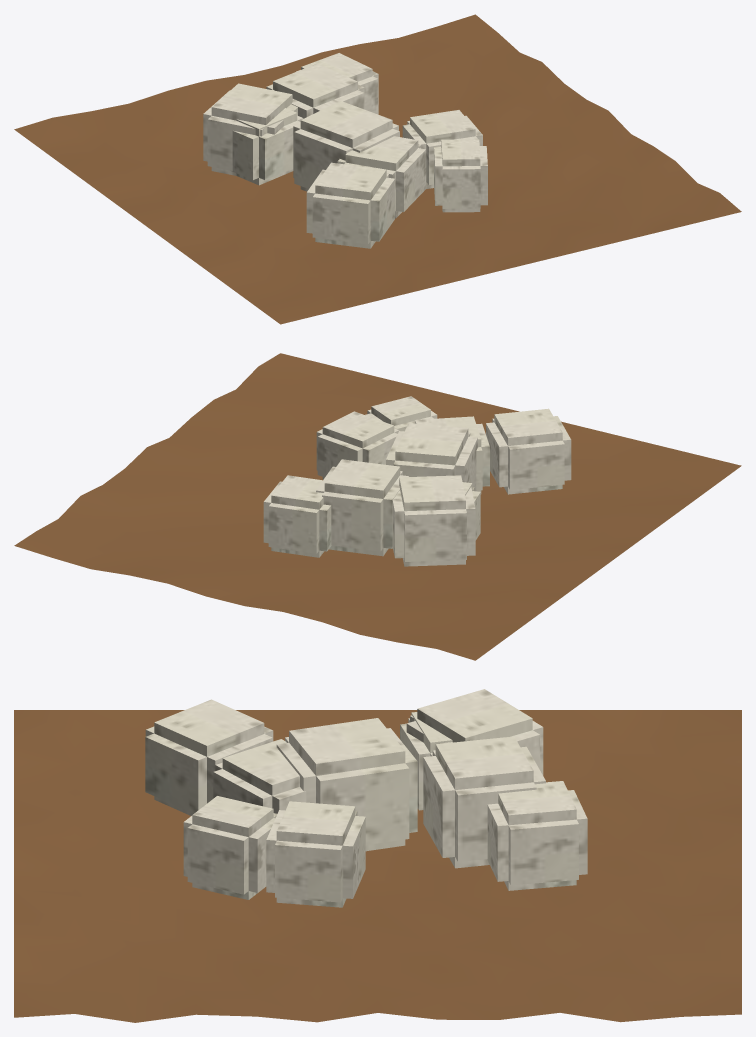
File: cheese_bait.gltf
3 renders of one model, top to bottom at view 1: azimuth 30°, elevation 25°; view 2: azimuth 150°, elevation 25°; view 3: azimuth 270°, elevation 25°, orthographic. The views are drawn at different scales.
Parts seen in each view (by area): view 1: cheese_bait; view 2: cheese_bait; view 3: cheese_bait.
Part boxes in pixels (x1,y1,x2,y2): cheese_bait: (14,14,741,324); cheese_bait: (14,353,741,660); cheese_bait: (14,689,741,1022).
Bounding box in the file's own units: 0.095 × 0.0157 × 0.095.
2 materials, 1 textured.
